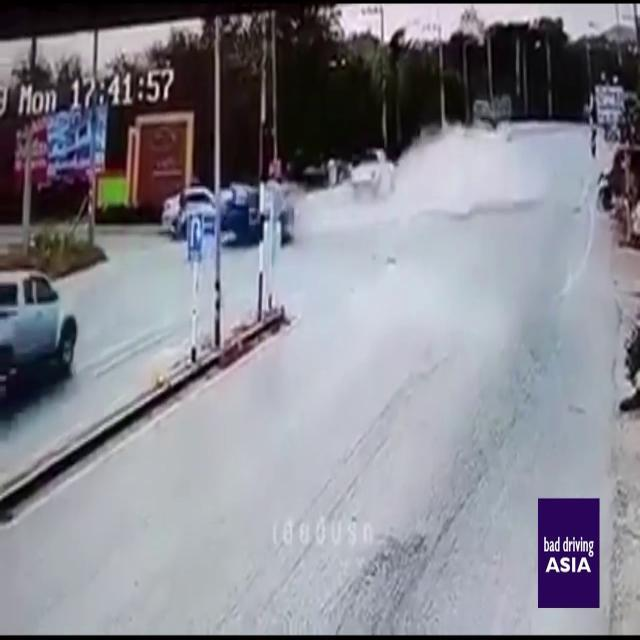multiple_accident: (171, 169, 335, 272)
normal: (0, 261, 103, 416)
